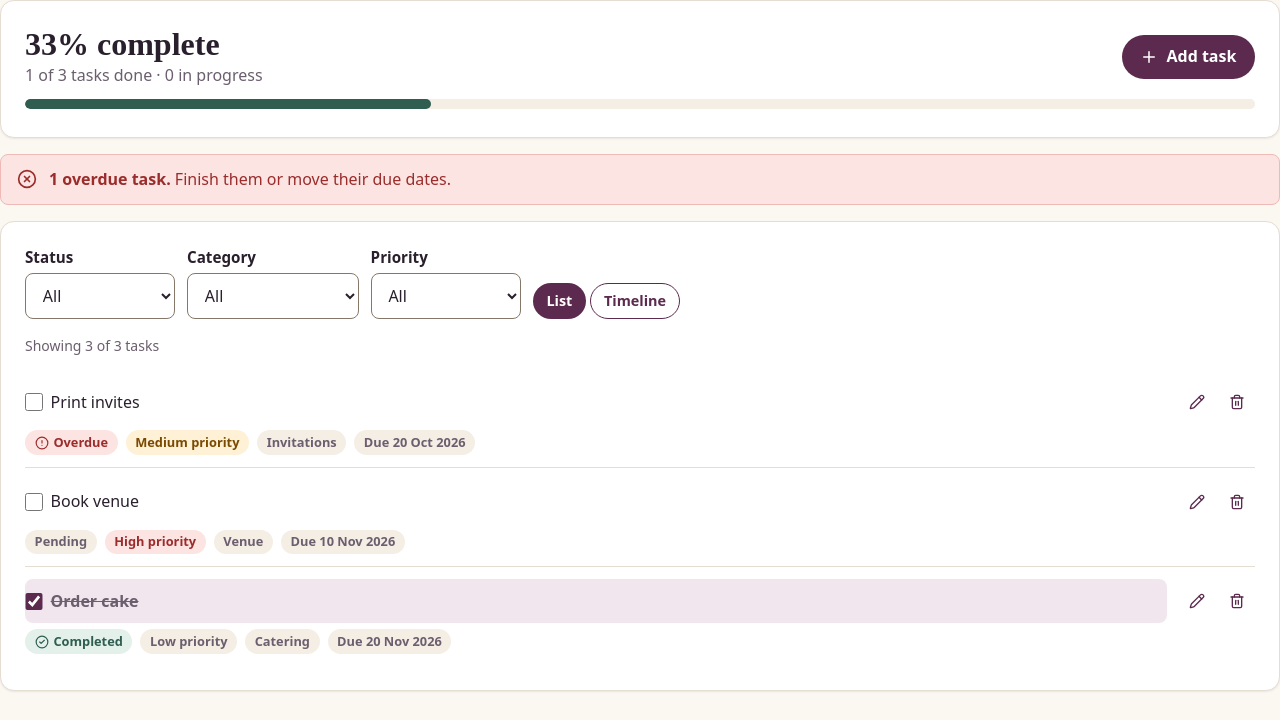
Test: TasksTab › deletes a task after confirmation
The image size is (1280, 720).
What coordinates should you click on to do the following:
click the button named "Delete Book venue"
I would click on:
 (1237, 502)
Its box is top-left (1219, 484), bottom-right (1255, 520).
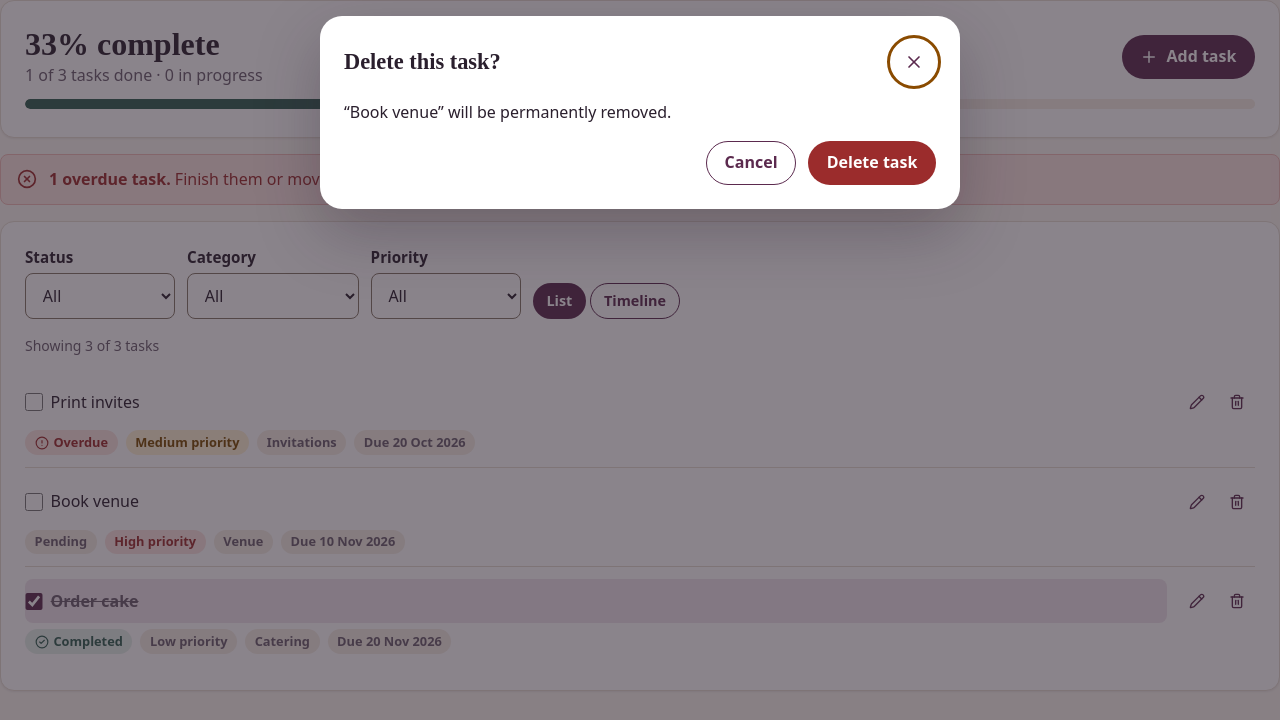
What coordinates should you click on to do the following:
click the button "Delete task"
I would click on:
 (872, 163)
Its box is top-left (808, 141), bottom-right (936, 185).
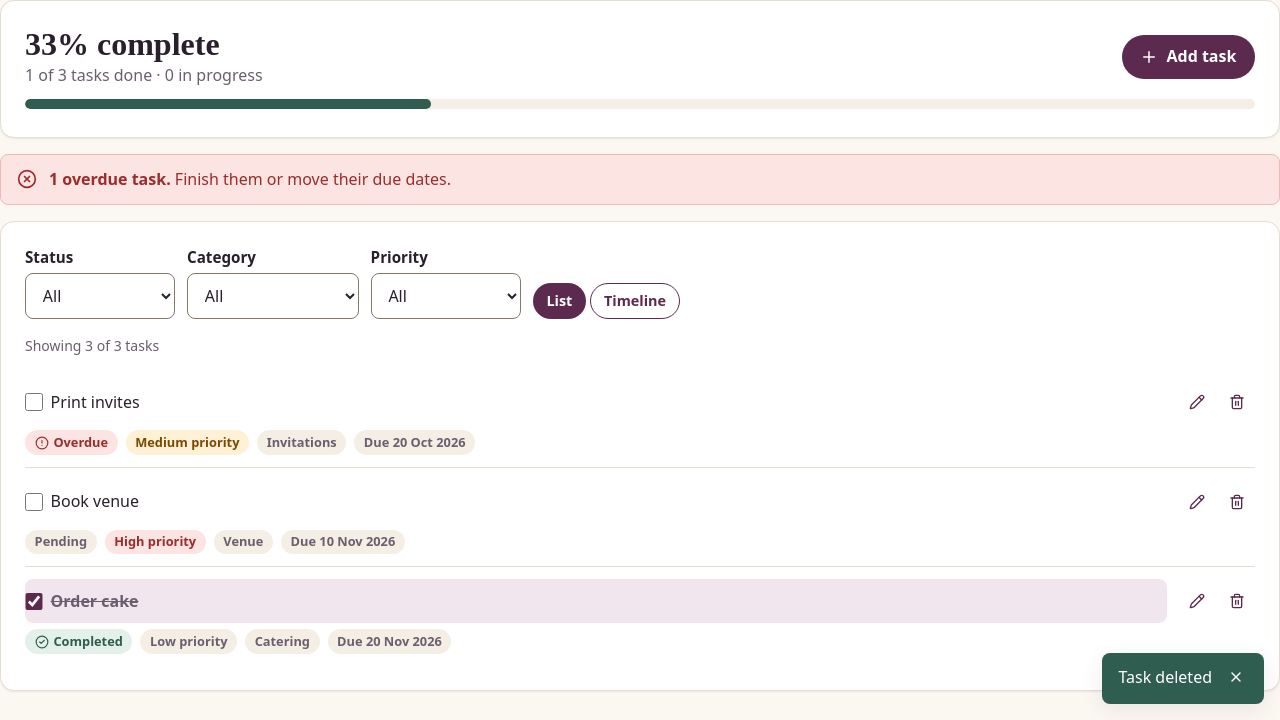
Expected: the text "Task deleted" is shown, top-left (1118, 665), bottom-right (1212, 690)
